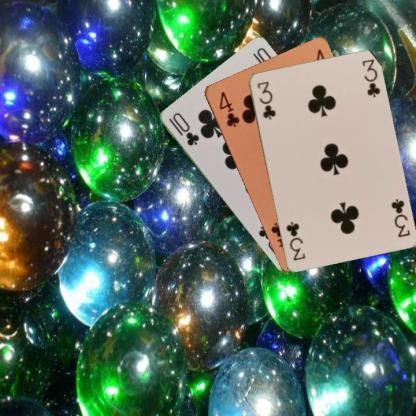10c: (166, 110, 200, 148)
3c: (254, 78, 277, 121), (388, 196, 411, 238)
4c: (216, 89, 241, 128)
